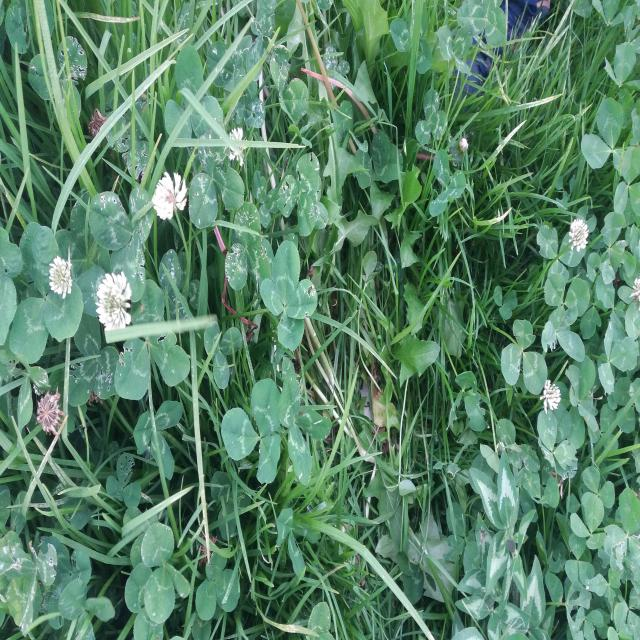Four Leaf Clover: (260, 240, 317, 351), (370, 389, 408, 437), (270, 406, 310, 451), (435, 540, 467, 593), (481, 572, 514, 621), (477, 435, 503, 480), (216, 298, 244, 338)
